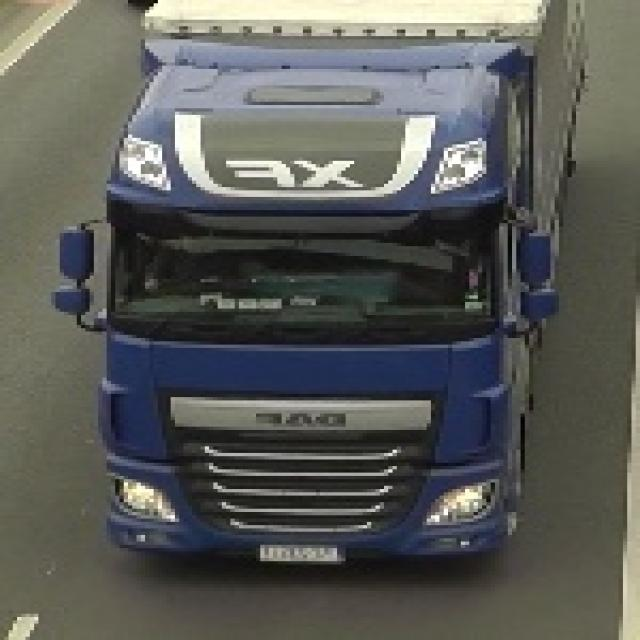TRUCK: (78, 3, 590, 580)
